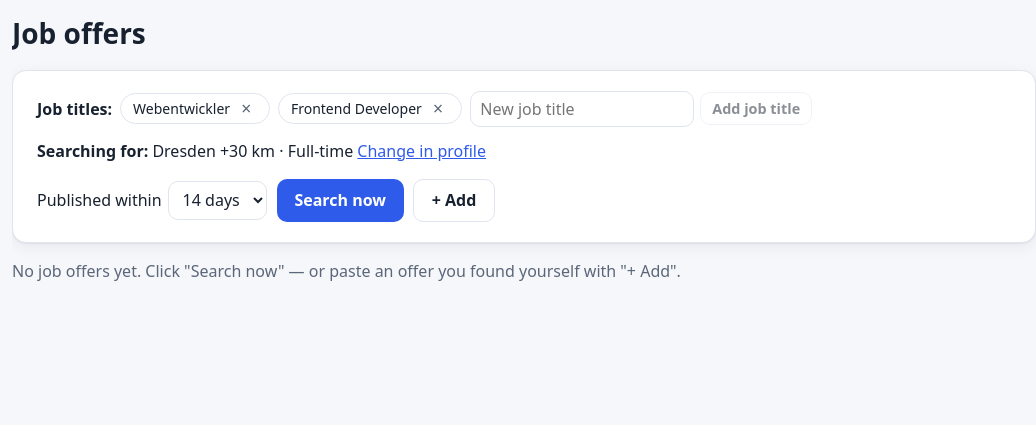
Test: VacanciesPage — search flow › a refused start shows the reason
The width and height of the screenshot is (1036, 425).
Click the button "Search now": (340,200) [277, 179, 404, 222]
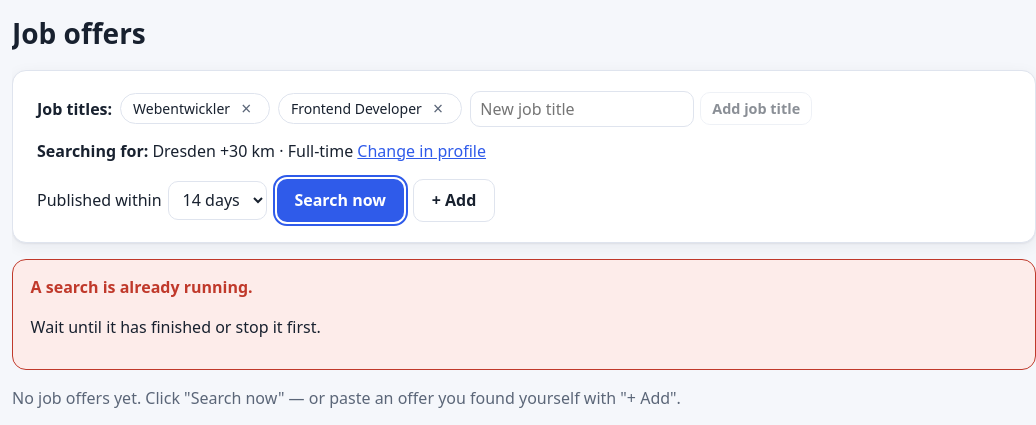
Expected: the text "A search is already running." is shown, [31, 276, 253, 298]
